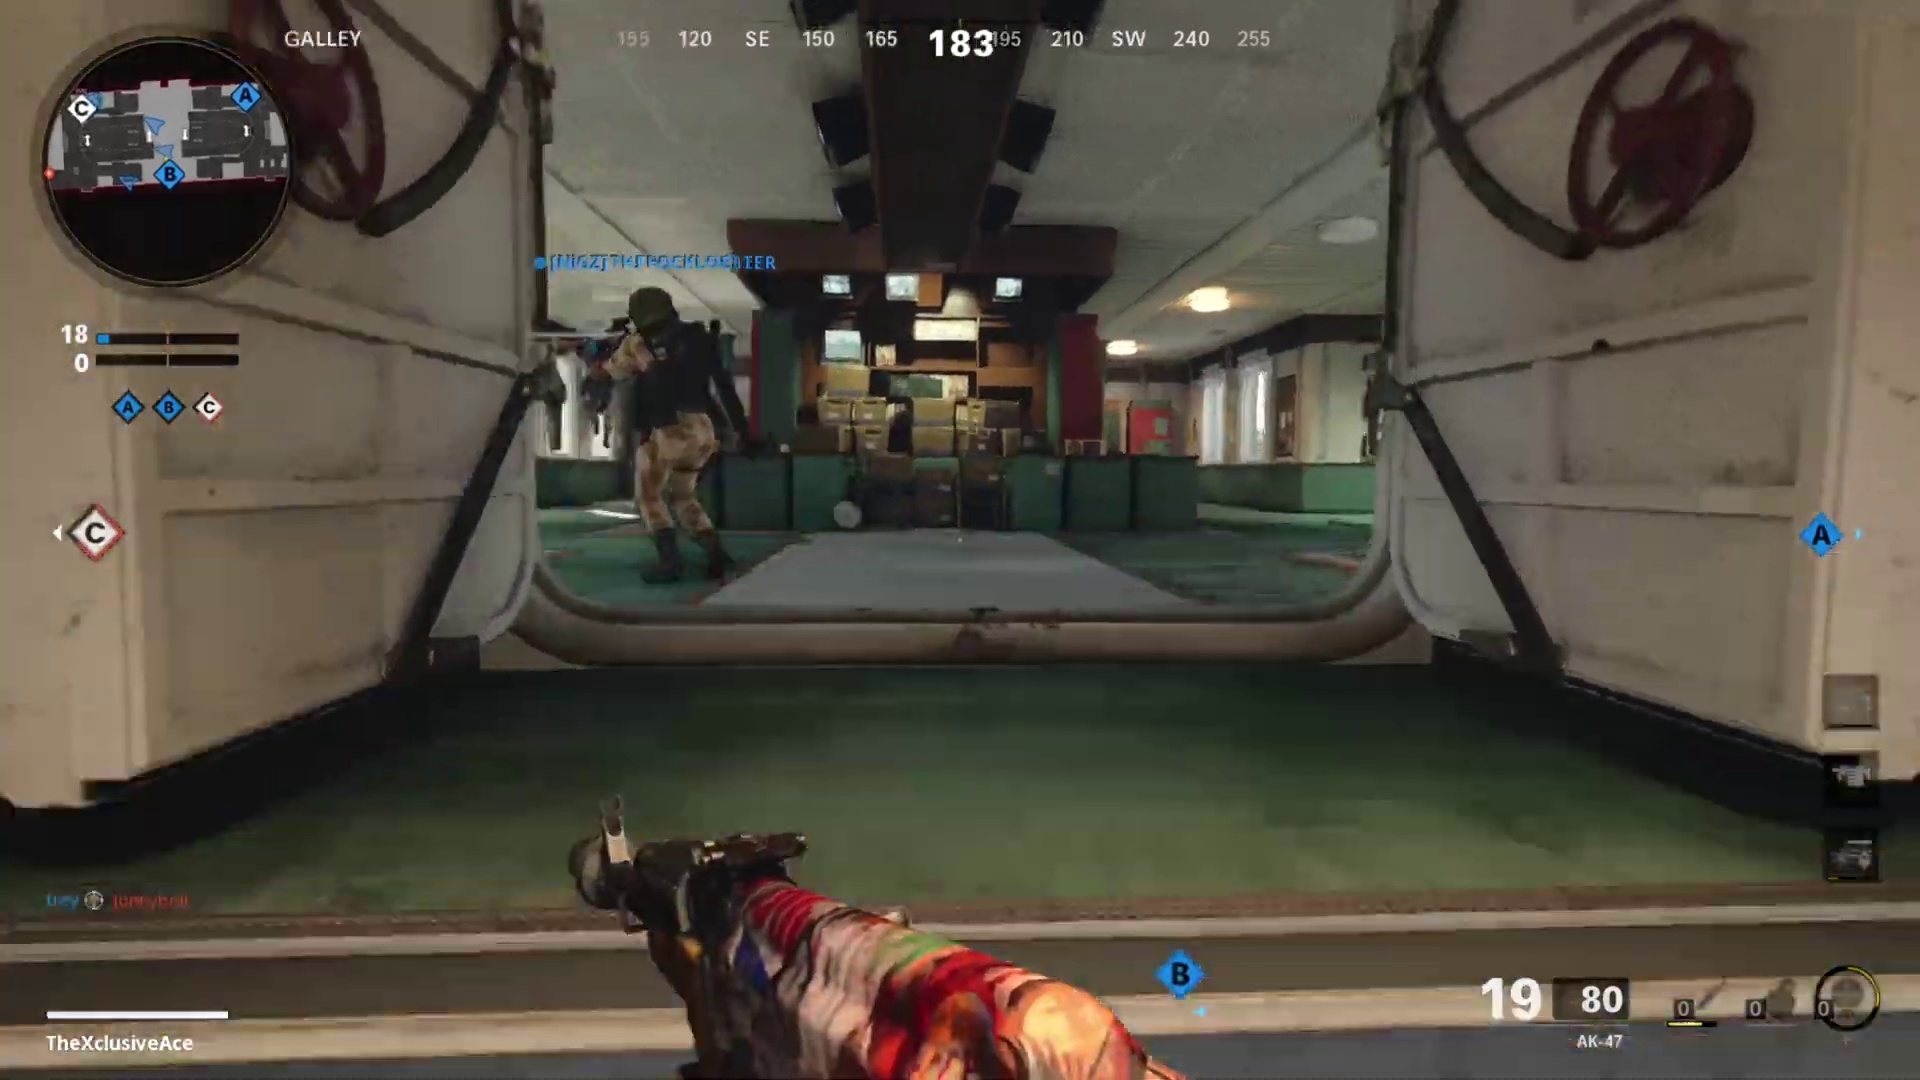head: (617, 281, 686, 350)
person: (584, 284, 748, 587)
